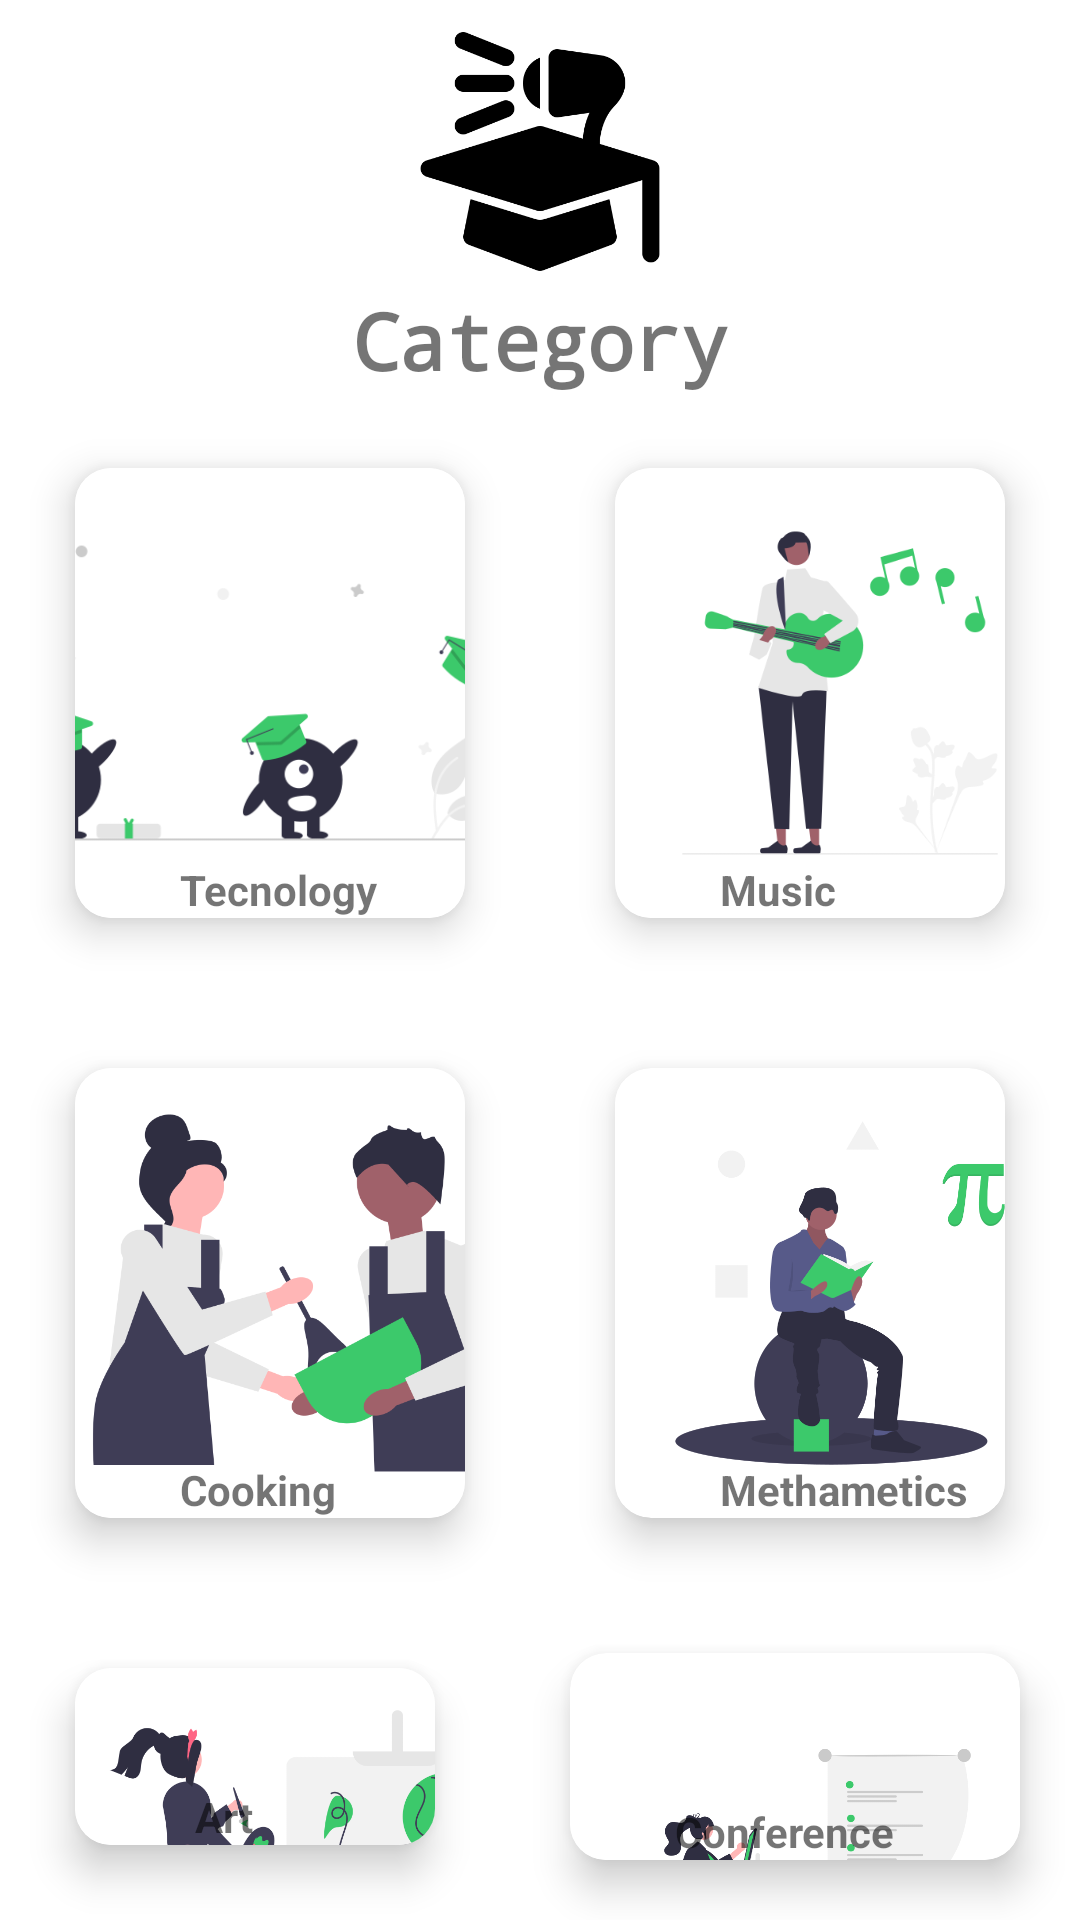

Screen size 1080*1920. Icon name, then its box in pixels as (x1, y1, x2, y2):
broadcasting: (420, 32, 660, 271)
